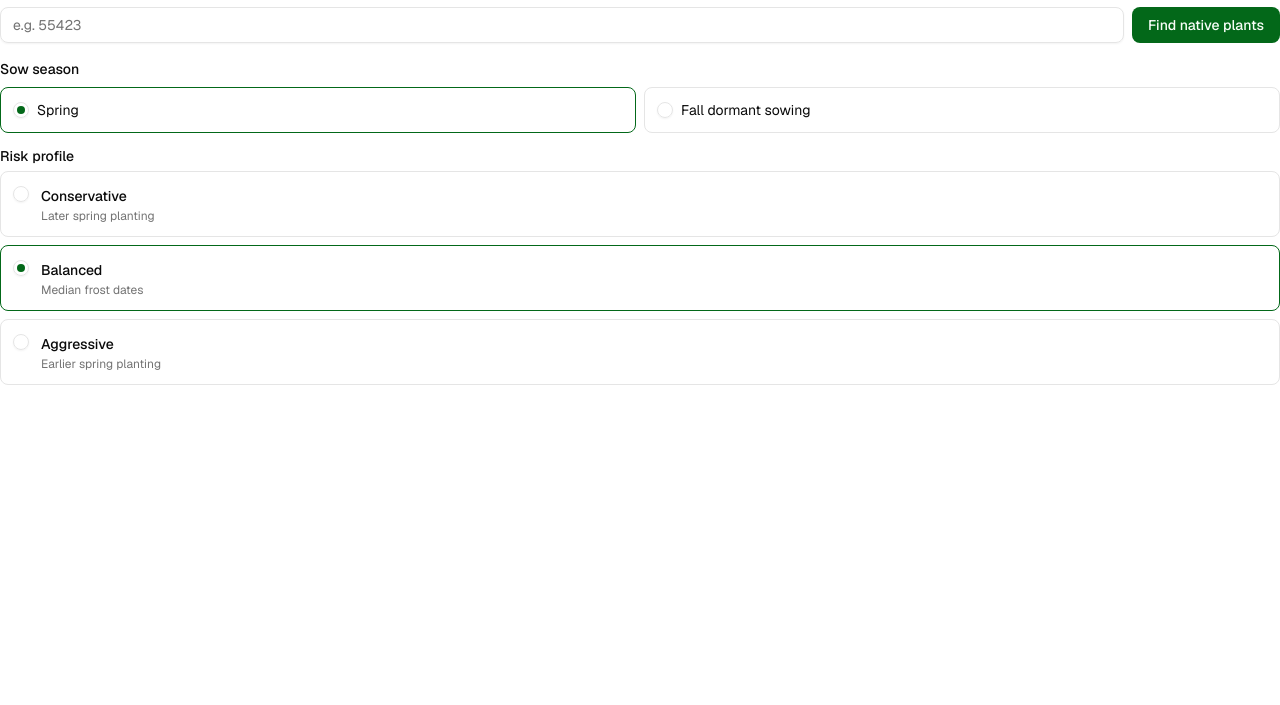
Scenario: NativesLookup range evidence › shows same-county source disagreements and their provenance without recommending the plant
This screenshot has width=1280, height=705.
Type "55423" into the field labelled "ZIP code" at (562, 25), box x1=0 y1=7 x2=1124 y2=43
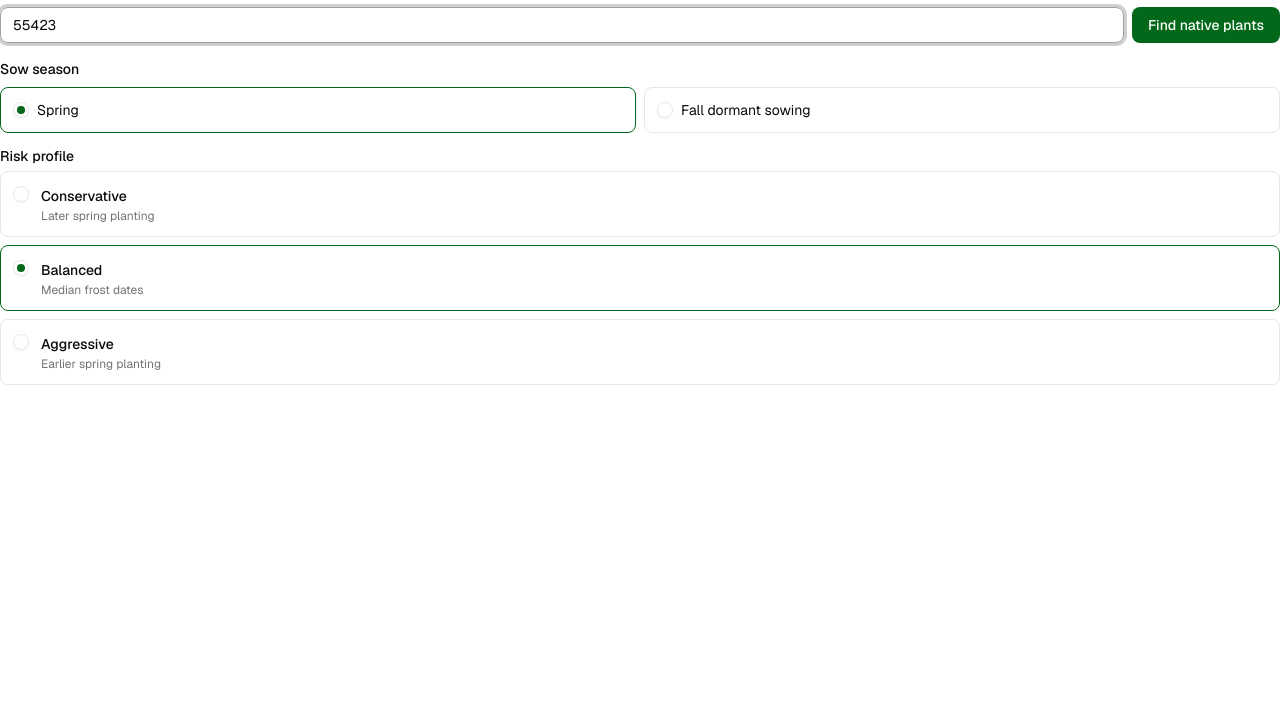
Click the button "Find native plants" at (1206, 25), box x1=1132 y1=7 x2=1279 y2=43
(page scrolled)
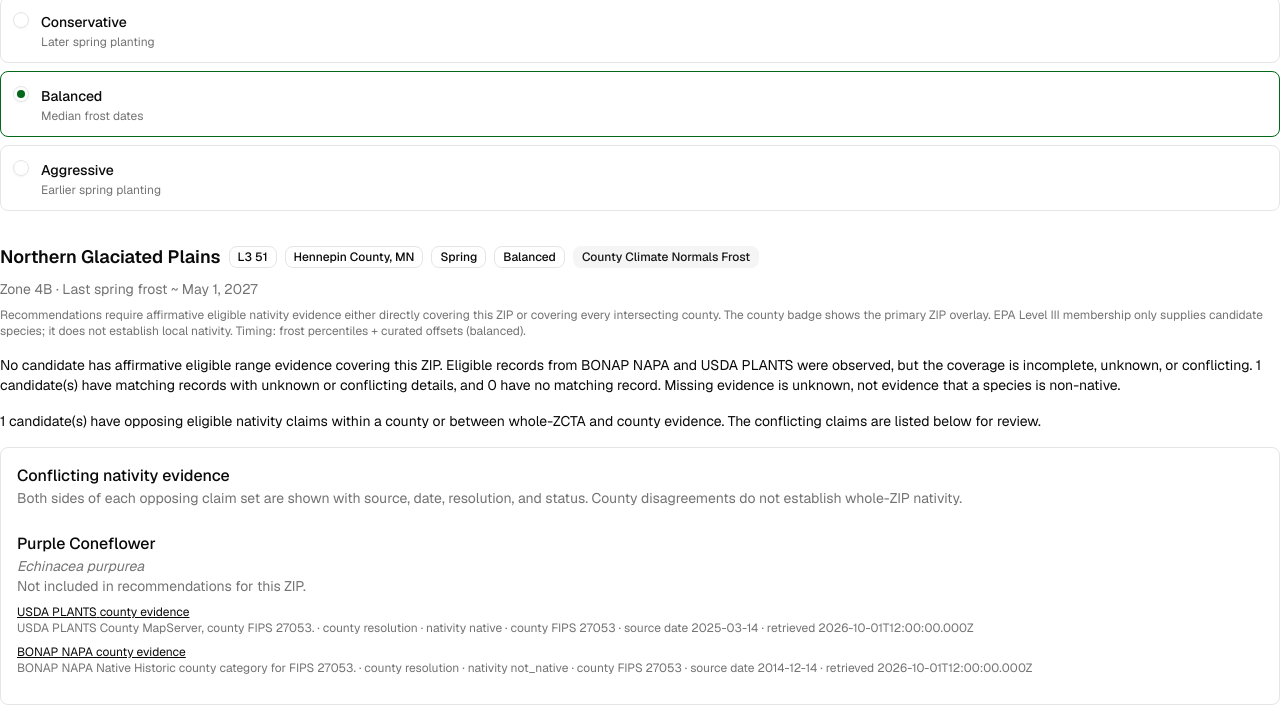
Now the text "1 candidate(s) have opposing eligible nativity claims within a county" is shown, box x1=0 y1=412 x2=1041 y2=430
Now the element "Conflicting nativity evidence" is shown, box x1=0 y1=447 x2=1279 y2=704
Now the text "Not included in recommendations for this ZIP." is shown, box x1=17 y1=577 x2=306 y2=595
